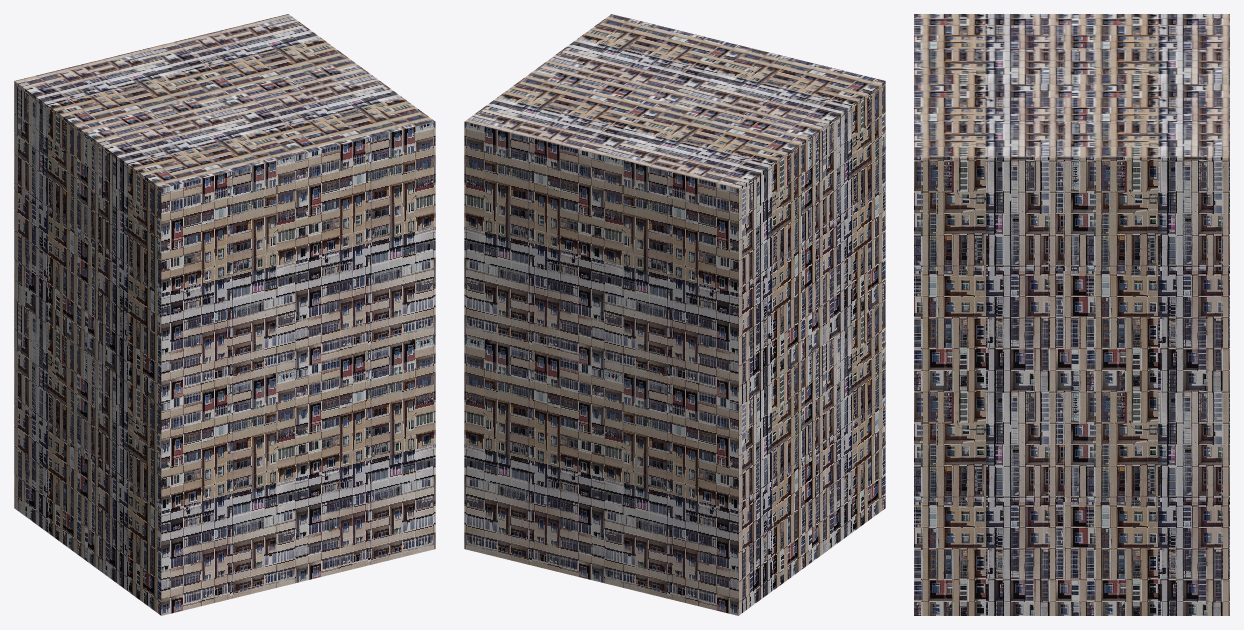
File: street_city_buildings_8.glb
The picture shows the model from 3 angles, left to right: view 1: azimuth 30°, elevation 25°; view 2: azimuth 150°, elevation 25°; view 3: azimuth 270°, elevation 25°; orthographic projection. The views are drawn at different scales.
Parts seen in each view (by area): view 1: pb_slab_109; view 2: pb_slab_109; view 3: pb_slab_109.
Part boxes in pixels (x1,y1,x2,y2): pb_slab_109: (14, 14, 435, 615); pb_slab_109: (464, 14, 885, 615); pb_slab_109: (914, 14, 1229, 615).
Bounding box in the file's own units: 61.16 × 91.05 × 56.88.
8 materials, 8 textured.
